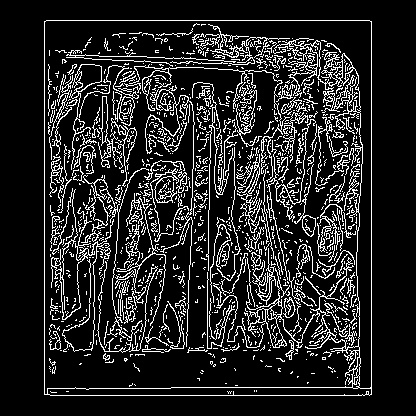buddha-standing: (84, 210, 254, 273)
